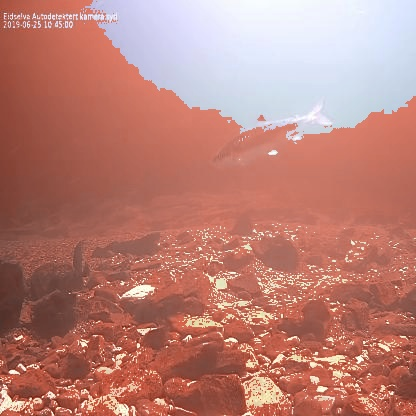salmon: (211, 95, 334, 169)
